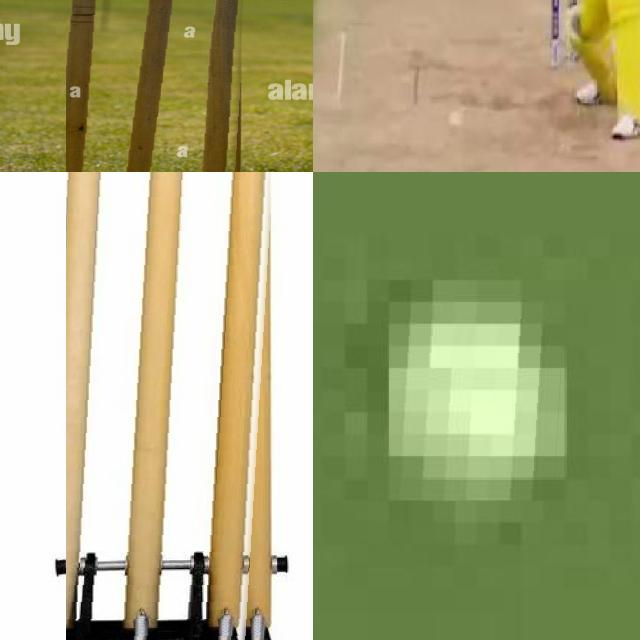Cricket ball: (391, 310, 565, 501), (446, 108, 464, 136)
Stumps: (65, 172, 278, 640), (66, 0, 249, 172)
